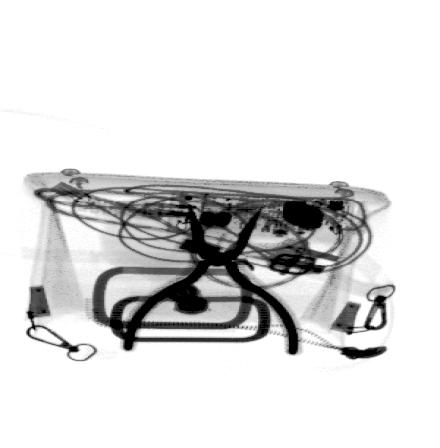Pliers: (121, 201, 302, 358)
